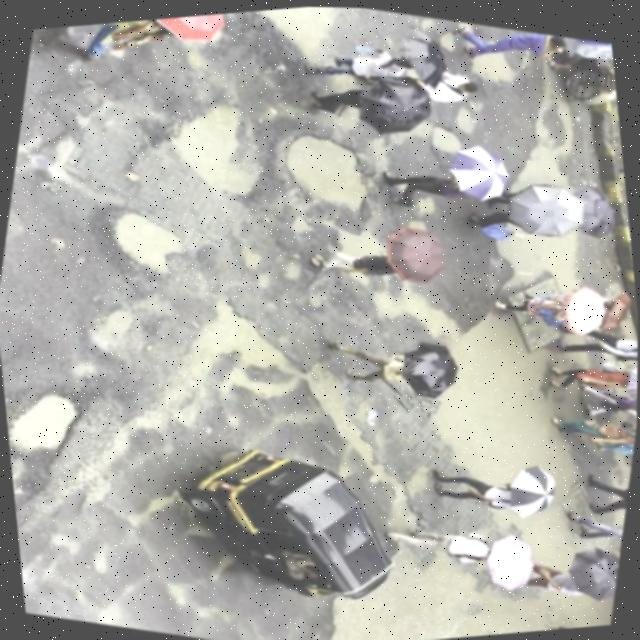Pothole: (149, 70, 291, 215), (267, 117, 394, 229), (189, 292, 310, 386), (2, 376, 94, 473), (98, 197, 197, 287), (294, 356, 370, 439), (457, 35, 525, 90), (86, 292, 149, 347), (384, 484, 439, 542), (422, 116, 474, 162), (400, 453, 442, 495), (410, 190, 442, 218), (403, 214, 437, 235)
